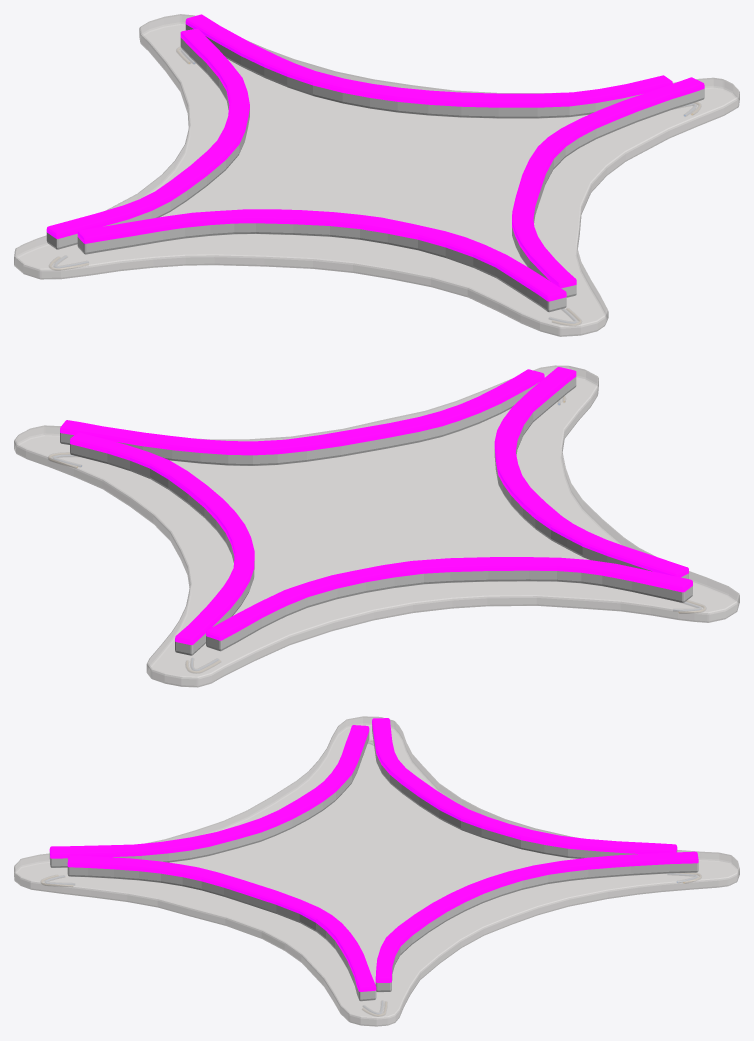
The model's file is star.glb.
3 views of the same model, one above another, from view 1: azimuth 30°, elevation 25°; view 2: azimuth 150°, elevation 25°; view 3: azimuth 270°, elevation 25° (orthographic). The views are drawn at different scales.
Parts seen in each view (by area): view 1: Plane.048, Plane.006; view 2: Plane.048, Plane.006; view 3: Plane.048, Plane.006.
Boxes of the visible parts, x1,y1,x2,y2 form: Plane.048: (14,14,739,336); Plane.006: (46,14,704,312); Plane.048: (14,365,739,687); Plane.006: (60,367,692,655); Plane.048: (14,716,739,1026); Plane.006: (49,718,698,1001).
Bounding box in the file's own units: 1.28 × 0.0546 × 1.3.
